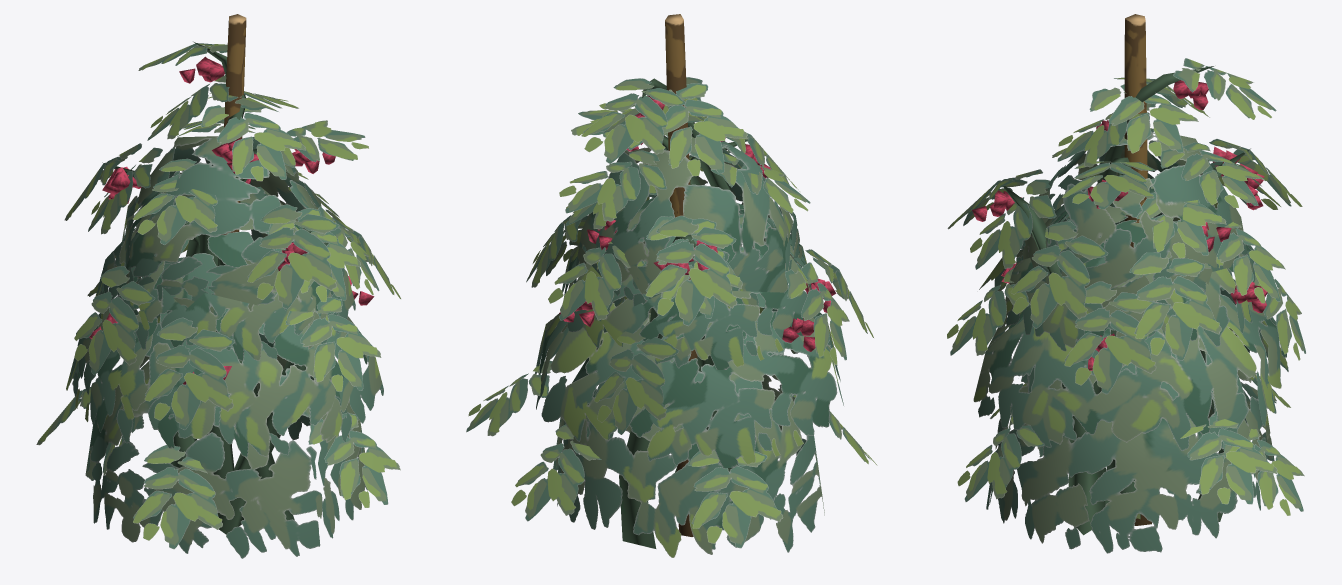
Rendered from bush_raspberry_V2.fbx.
The picture shows the model from 3 angles, left to right: view 1: azimuth 30°, elevation 25°; view 2: azimuth 150°, elevation 25°; view 3: azimuth 270°, elevation 25°; orthographic projection. The views are drawn at different scales.
Visible parts, largest first — view 1: RaspBerry Bush; view 2: RaspBerry Bush; view 3: RaspBerry Bush.
Boxes of the visible parts, x1,y1,x2,y2 form: RaspBerry Bush: (36,14,400,558); RaspBerry Bush: (466,14,877,557); RaspBerry Bush: (947,14,1305,553).
Bounding box in the file's own units: 104 × 143 × 102.
